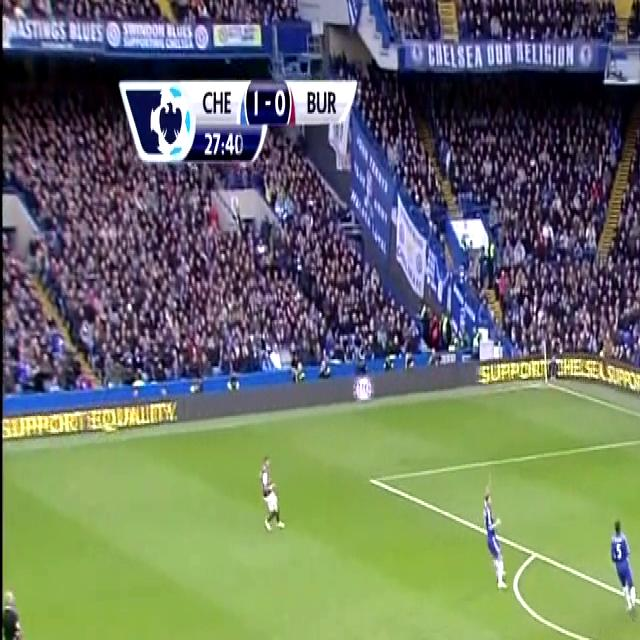referee: (2, 569, 36, 640)
soccer-player: (606, 507, 640, 622), (476, 476, 506, 595), (254, 442, 286, 540), (637, 583, 640, 640)
